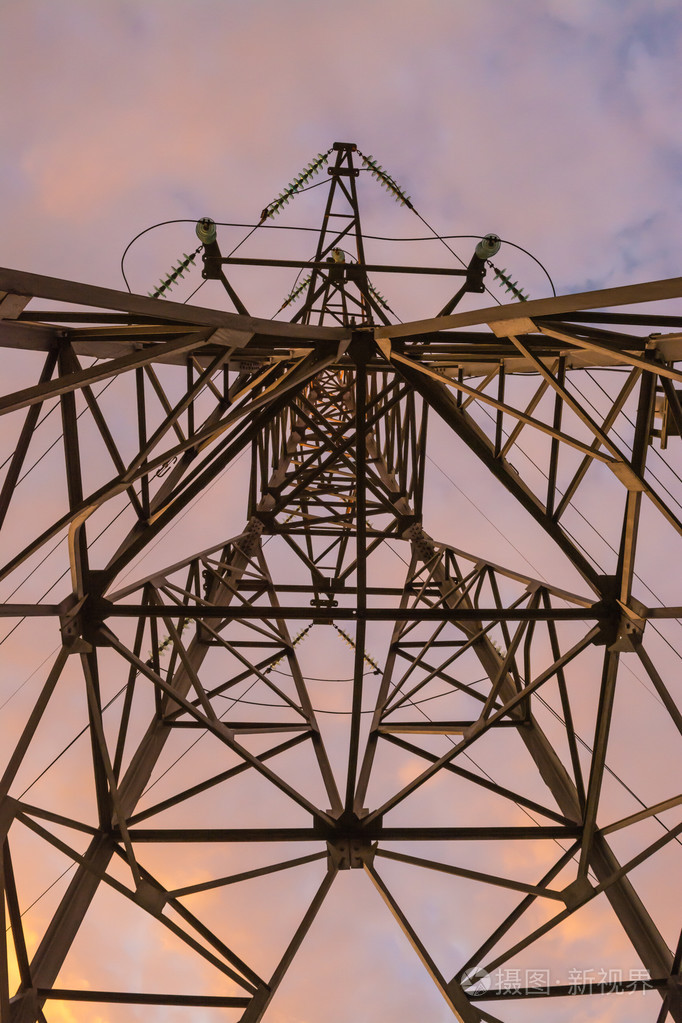insulator: (263, 149, 330, 217), (363, 150, 412, 208), (143, 248, 196, 299), (491, 260, 535, 303), (281, 275, 311, 310)
